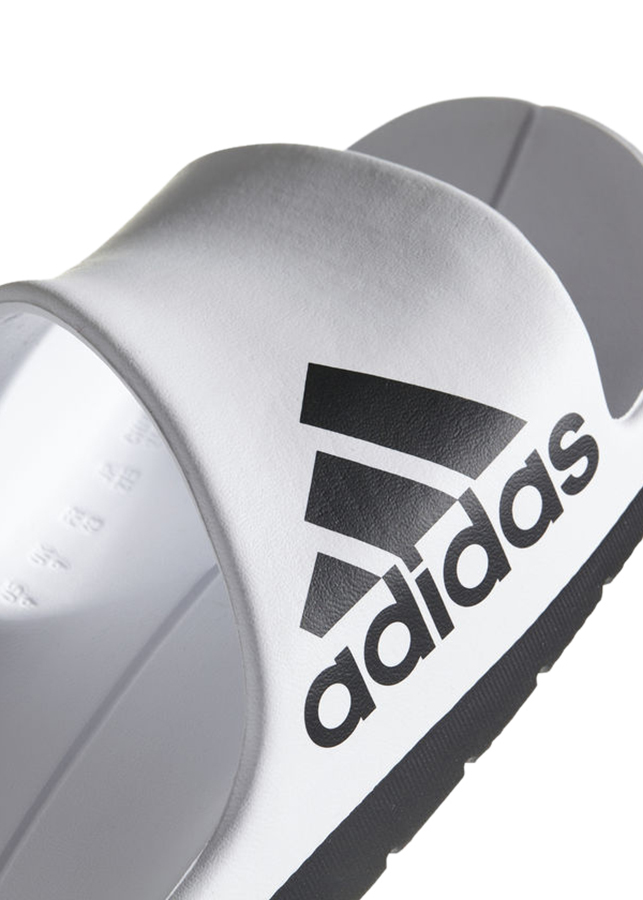Adidas: (289, 349, 607, 752)
